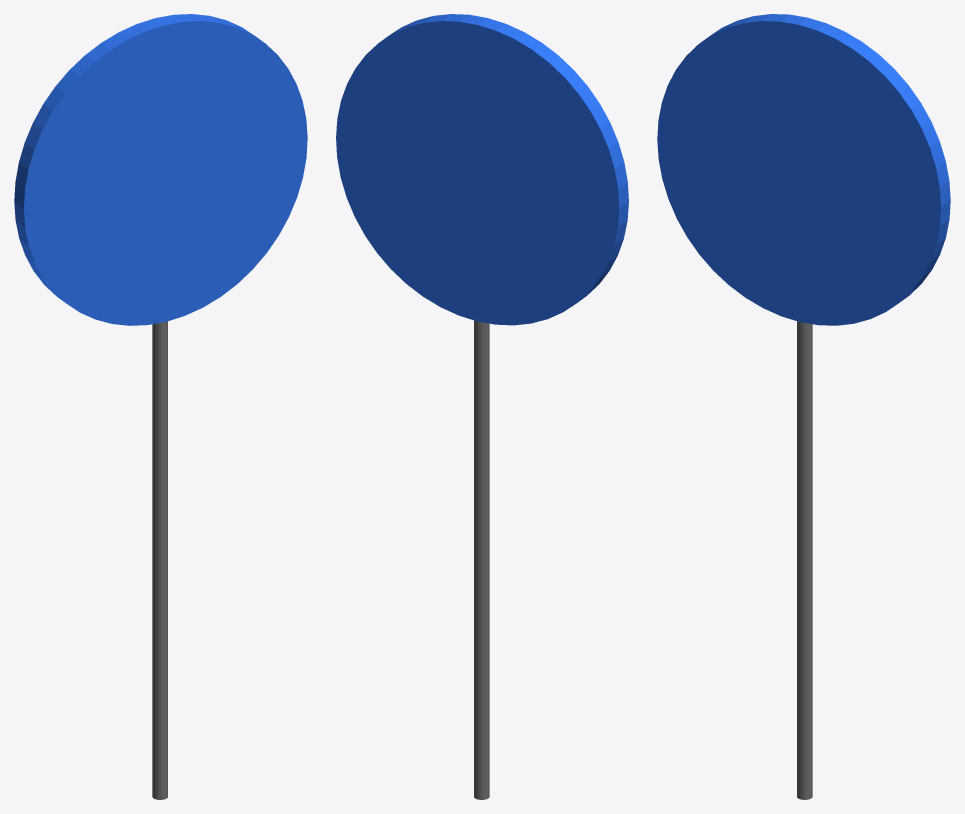
File: signs circle blue.fbx
3 renders of one model, left to right at view 1: azimuth 30°, elevation 25°; view 2: azimuth 150°, elevation 25°; view 3: azimuth 330°, elevation 25°, orthographic.
Visible parts, largest first — view 1: Cube.010; view 2: Cube.010; view 3: Cube.010.
Part boxes in pixels (x1=…): Cube.010: x1=14, y1=14, x2=307, y2=799; Cube.010: x1=336, y1=14, x2=628, y2=799; Cube.010: x1=657, y1=14, x2=950, y2=799.
Size of the model in its own units: 172 by 10.13 by 450.
